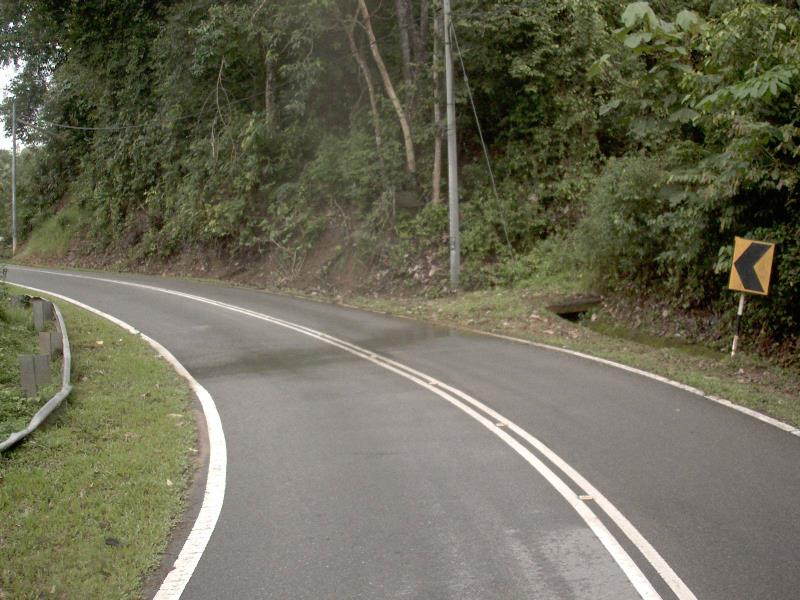traffic_sign: (718, 228, 783, 306)
